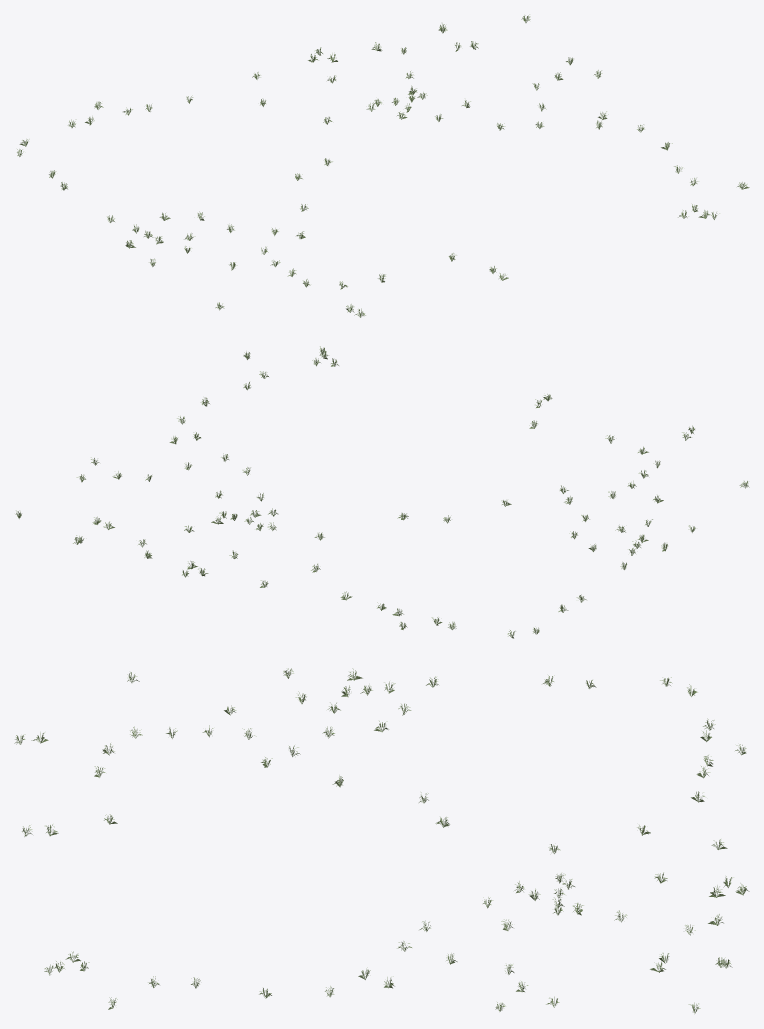
The model's file is xiyuan-vegetation-39-medium.glb.
The picture shows the model from 3 angles, top to bottom: view 1: azimuth 30°, elevation 25°; view 2: azimuth 150°, elevation 25°; view 3: azimuth 270°, elevation 25°; orthographic projection. The views are drawn at different scales.
Parts seen in each view (by area): view 1: mondo grass.004; view 2: mondo grass.004; view 3: mondo grass.004.
Boxes of the visible parts, left/top/right/bottom form: mondo grass.004: left=17, top=14, right=749, bottom=317; mondo grass.004: left=15, top=346, right=749, bottom=638; mondo grass.004: left=14, top=668, right=749, bottom=1013.
Size of the model in its own units: 32.5 by 0.4841 by 29.58.
